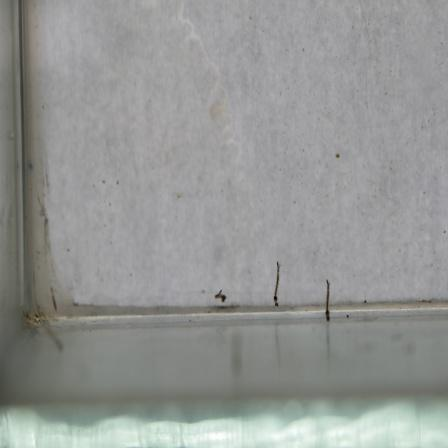Jentik-Nyamuk: (269, 257, 286, 315), (319, 277, 336, 325), (208, 286, 232, 310)
